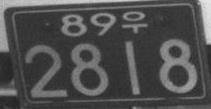1: (116, 40, 150, 95)
2: (24, 43, 67, 98)
8: (69, 41, 109, 97), (158, 38, 198, 94), (60, 14, 87, 37)
9: (89, 11, 117, 35)
우: (120, 10, 148, 33)
